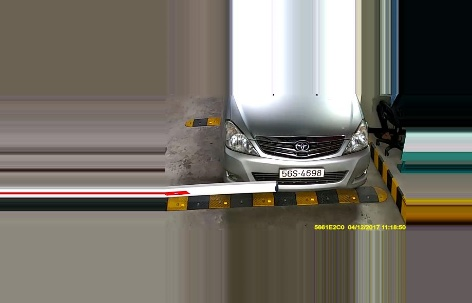plate: (277, 166, 325, 178)
